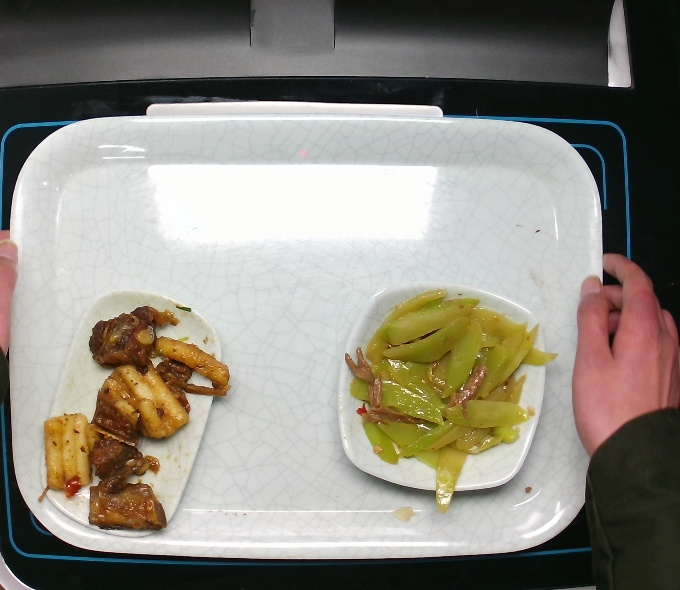wcq-NianGaoZaiPai: (35, 304, 231, 535)
wcq-WoSun: (343, 287, 562, 517)
